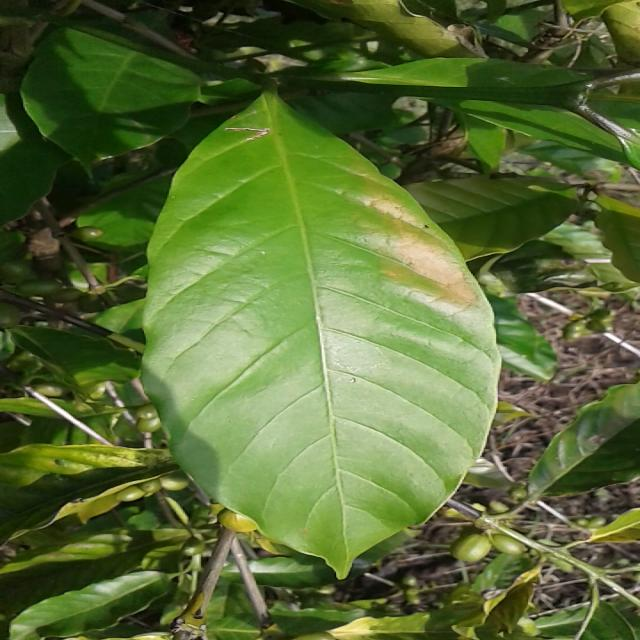Enfermedad-Roya: (140, 92, 502, 580)
